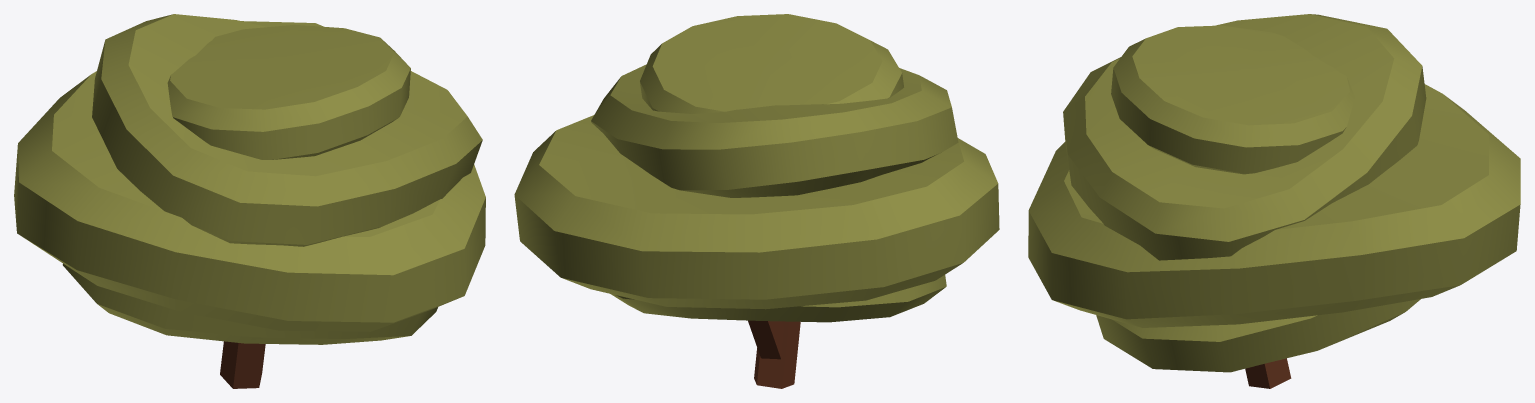
The model's file is BushTypeOne.fbx.
The picture shows the model from 3 angles, left to right: view 1: azimuth 30°, elevation 25°; view 2: azimuth 150°, elevation 25°; view 3: azimuth 270°, elevation 25°; orthographic projection. The views are drawn at different scales.
Visible parts, largest first — view 1: BushTypeOne; view 2: BushTypeOne; view 3: BushTypeOne.
Part boxes in pixels (left/top/right/bottom): BushTypeOne: left=14, top=14, right=485, bottom=388; BushTypeOne: left=514, top=14, right=999, bottom=388; BushTypeOne: left=1028, top=14, right=1520, bottom=388.
Size of the model in its own units: 3.99 by 3.02 by 4.09.
1 material, 1 textured.
